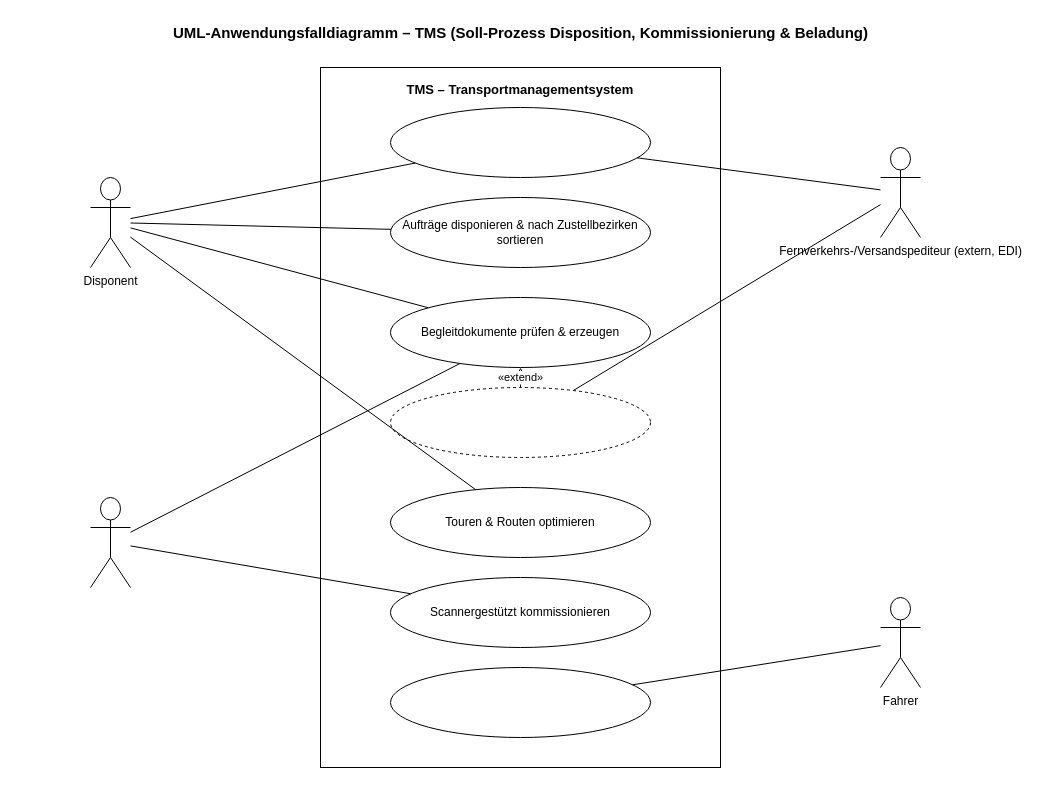
Some shapes in this 1039 by 785 pixel diagram are drawn without their labels. Each missing label, with the centre of its shape:
"Auftragsdaten empfangen & ins TMS übernehmen" goes at [520,142].
"Digitale Sammelrollkarte bereitstellen (Mobilgerät)" goes at [520,702].
"Fehlermeldung an Spediteur senden & Korrektur empfangen" goes at [520,422].
"Lagermitarbeiter / Kommissionierer" goes at [110,542].
